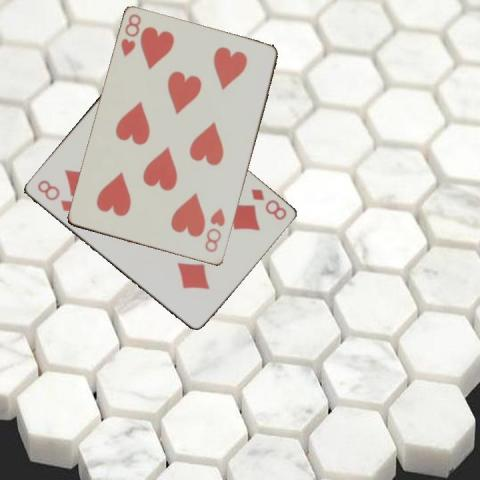8d: (247, 185, 288, 222), (34, 177, 76, 213)
8h: (202, 205, 227, 254), (118, 11, 143, 58)
